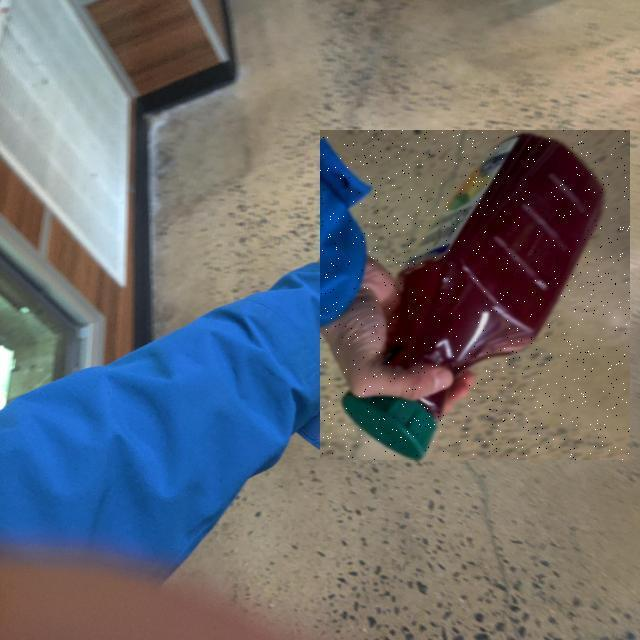Juice: (320, 130, 630, 460)
